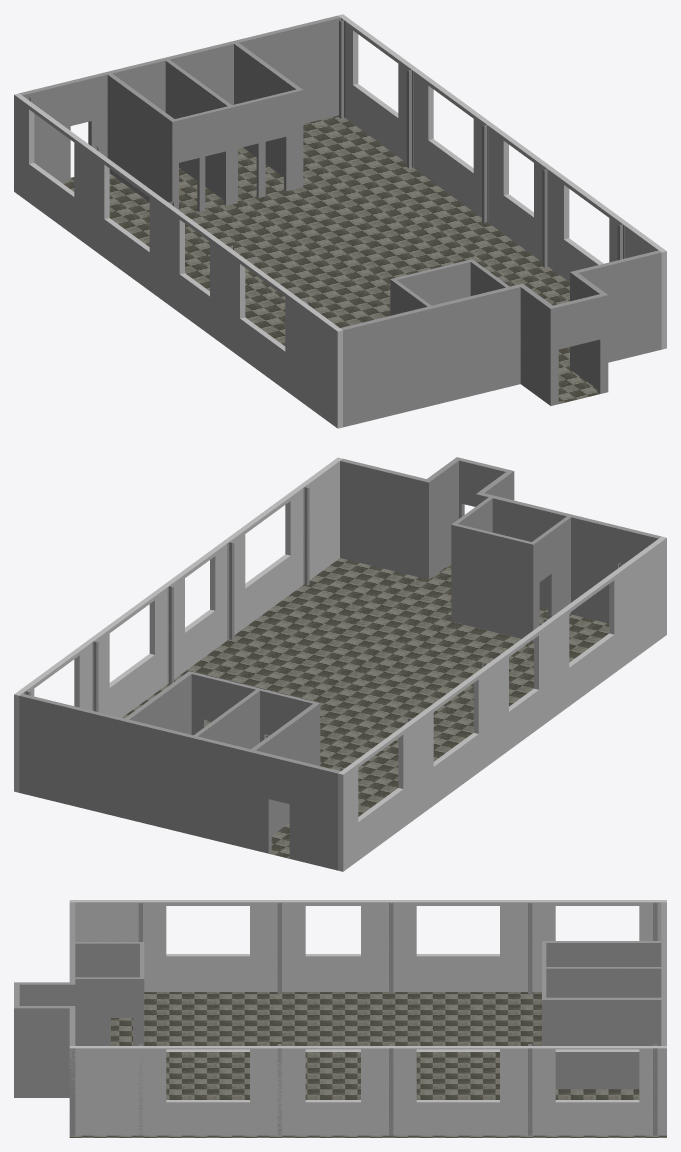
3 renders of one model, top to bottom at view 1: azimuth 30°, elevation 25°; view 2: azimuth 150°, elevation 25°; view 3: azimuth 270°, elevation 25°, orthographic. The views are drawn at different scales.
Visible parts, largest first — view 1: Floor, Wall_F, Wall_R, PrinterRoom, Wall_L, Wall_B, ARoom, IBeam.008, IBeam.007, IBeam.006, IBeam.009; view 2: Floor, Wall_B, Wall_R, Wall_F, Wall_L, ARoom, PrinterRoom, IBeam.006, IBeam.005, IBeam.007; view 3: Wall_L, Floor, Wall_R, PrinterRoom, Wall_F, ARoom, Wall_B, IBeam.001, IBeam.002, IBeam.003, IBeam.008, IBeam.009 (+1 smaller).
Boxes of the visible parts, bbox=[...] form: Floor: bbox=[62, 115, 599, 403]; Wall_F: bbox=[340, 250, 661, 427]; Wall_R: bbox=[14, 93, 342, 428]; PrinterRoom: bbox=[107, 42, 303, 212]; Wall_L: bbox=[338, 14, 666, 349]; Wall_B: bbox=[19, 15, 340, 182]; ARoom: bbox=[390, 259, 509, 315]; IBeam.008: bbox=[406, 69, 413, 168]; IBeam.007: bbox=[482, 124, 488, 223]; IBeam.006: bbox=[542, 168, 548, 267]; IBeam.009: bbox=[339, 19, 345, 118]; Floor: bbox=[122, 558, 609, 858]; Wall_B: bbox=[19, 693, 340, 870]; Wall_R: bbox=[338, 536, 666, 871]; Wall_F: bbox=[340, 457, 661, 623]; Wall_L: bbox=[14, 457, 342, 792]; ARoom: bbox=[451, 497, 570, 641]; PrinterRoom: bbox=[125, 671, 320, 835]; IBeam.006: bbox=[227, 541, 234, 640]; IBeam.005: bbox=[303, 486, 309, 585]; IBeam.007: bbox=[167, 585, 173, 683]; Wall_L: bbox=[69, 1046, 666, 1135]; Floor: bbox=[69, 992, 666, 1137]; Wall_R: bbox=[69, 900, 666, 991]; PrinterRoom: bbox=[542, 941, 661, 1089]; Wall_F: bbox=[14, 902, 75, 1135]; ARoom: bbox=[75, 942, 144, 1045]; Wall_B: bbox=[661, 902, 666, 1045]; IBeam.001: bbox=[277, 902, 281, 993]; IBeam.002: bbox=[389, 902, 393, 993]; IBeam.003: bbox=[528, 902, 532, 993]; IBeam.008: bbox=[528, 1044, 532, 1135]; IBeam.009: bbox=[653, 1044, 657, 1135].
Size of the model in its own units: 12.61 by 3.55 by 23.48.
